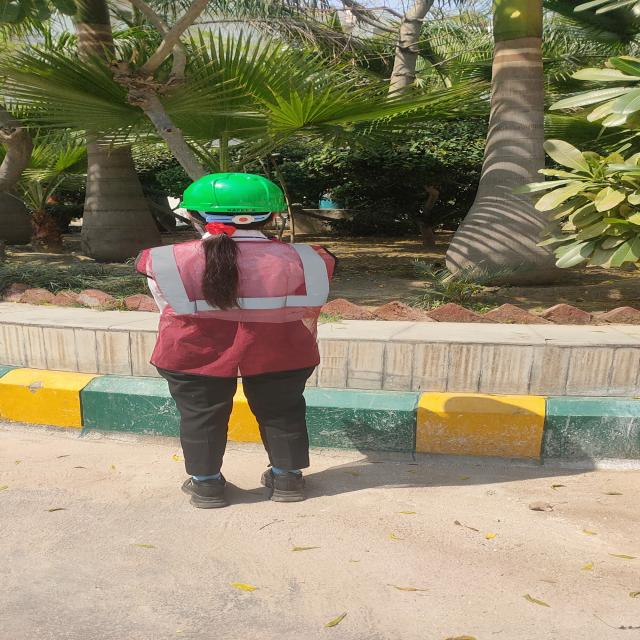safe: (139, 173, 337, 509)
